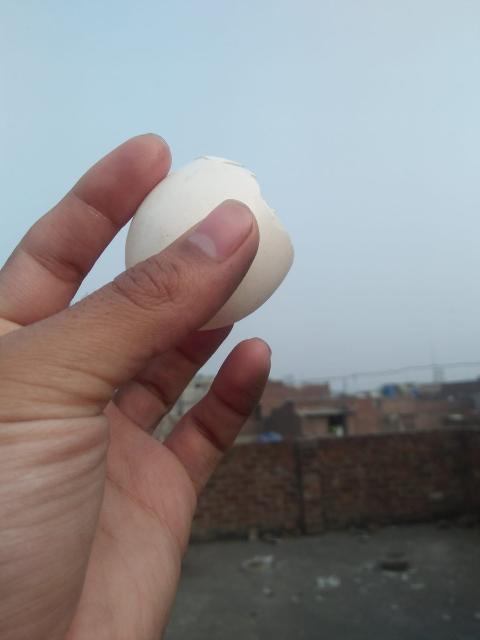Roto: (124, 154, 295, 331)
